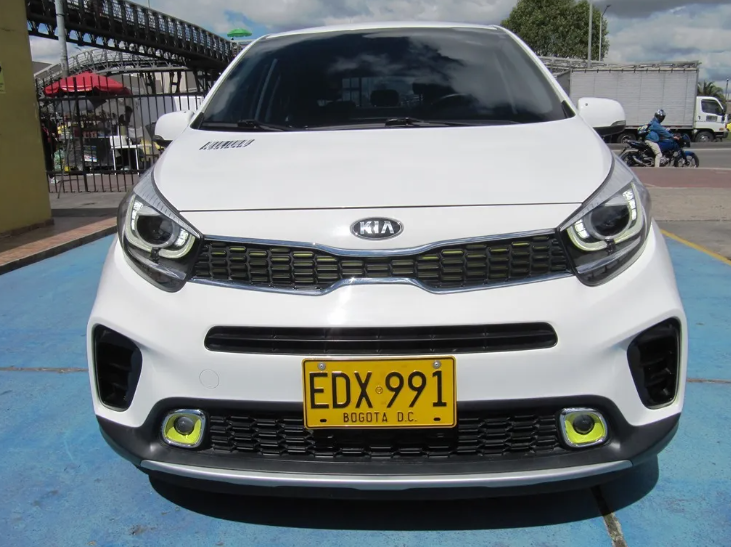placa: (303, 361, 459, 425)
